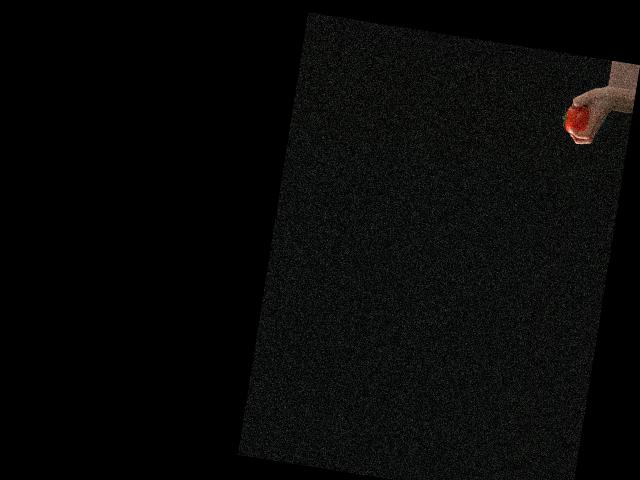tomato: (560, 102, 589, 135)
